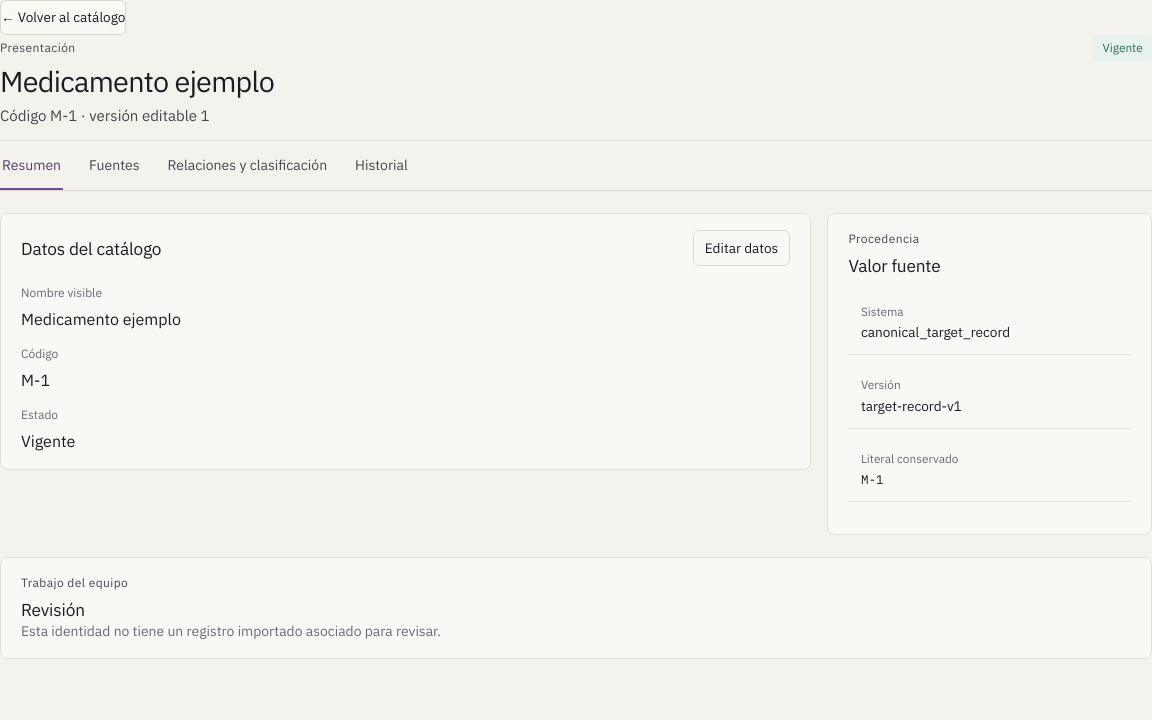
Test case: consulta clasificaciones solo para una presentación
Expected: the heading "Medicamento ejemplo" is shown, [0,63,274,99]
Click the tab "Fuentes": (114, 167) [87,143,142,190]
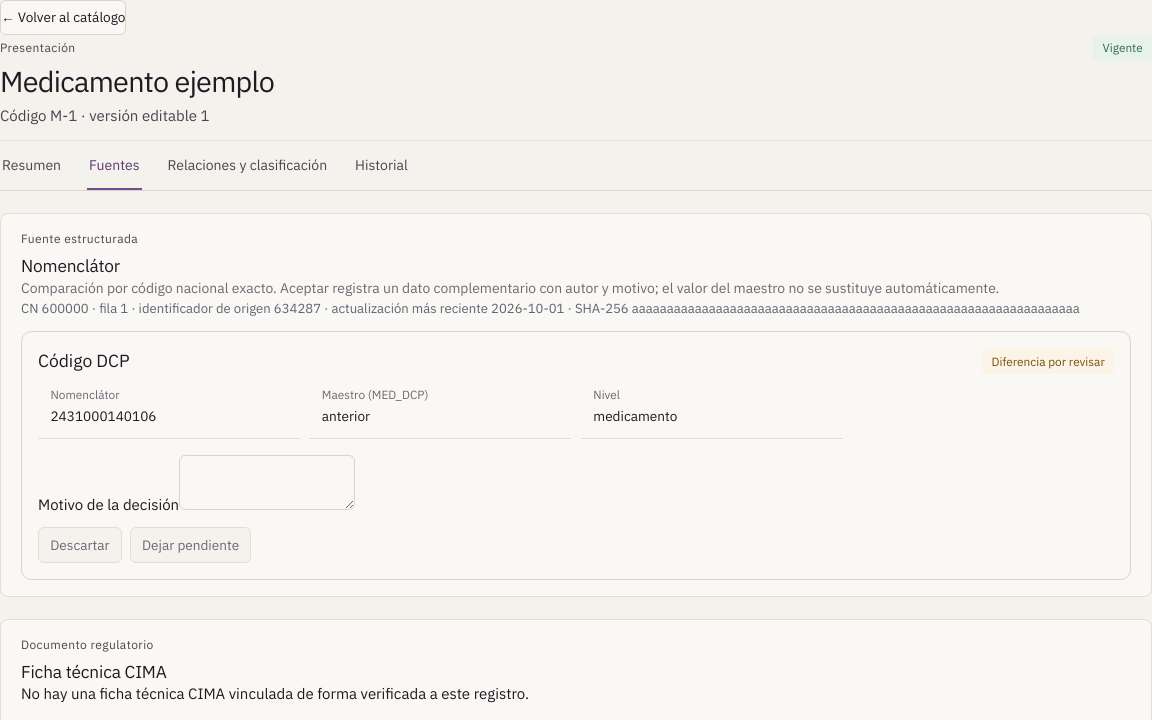
Expected: the heading "Nomenclátor" is shown, [21,254,120,278]
Expected: the text "2431000140106" is shown, [50,407,156,425]
Expected: the text "Diferencia por revisar" is shown, [982,349,1114,374]
